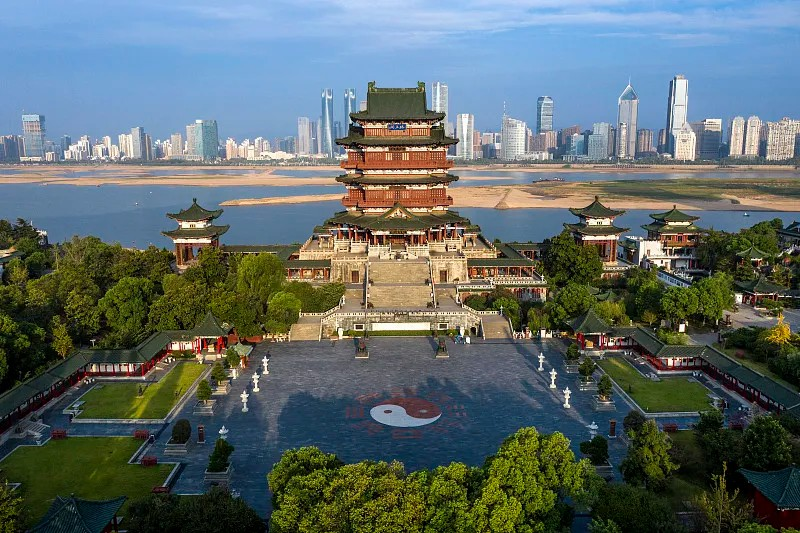Teng: (313, 80, 482, 247)
